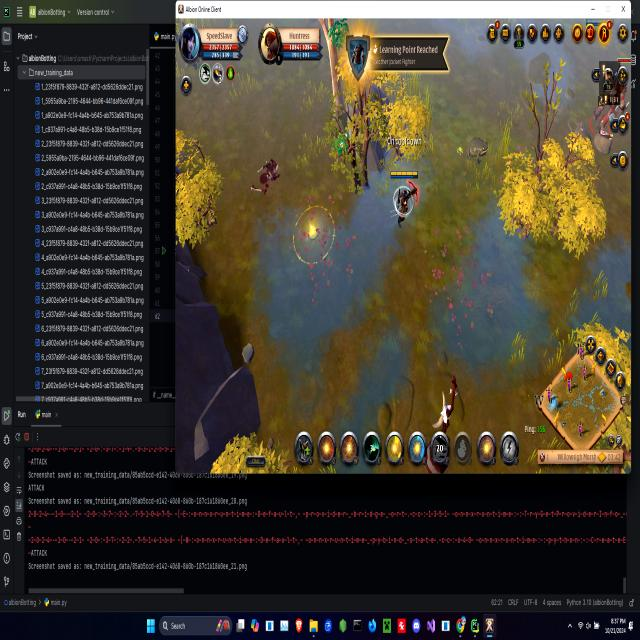hide: (332, 129, 357, 163)
ore: (590, 52, 631, 136), (466, 131, 494, 171)
red: (389, 167, 424, 226), (584, 19, 616, 25)
wisp caged: (316, 18, 354, 135)
